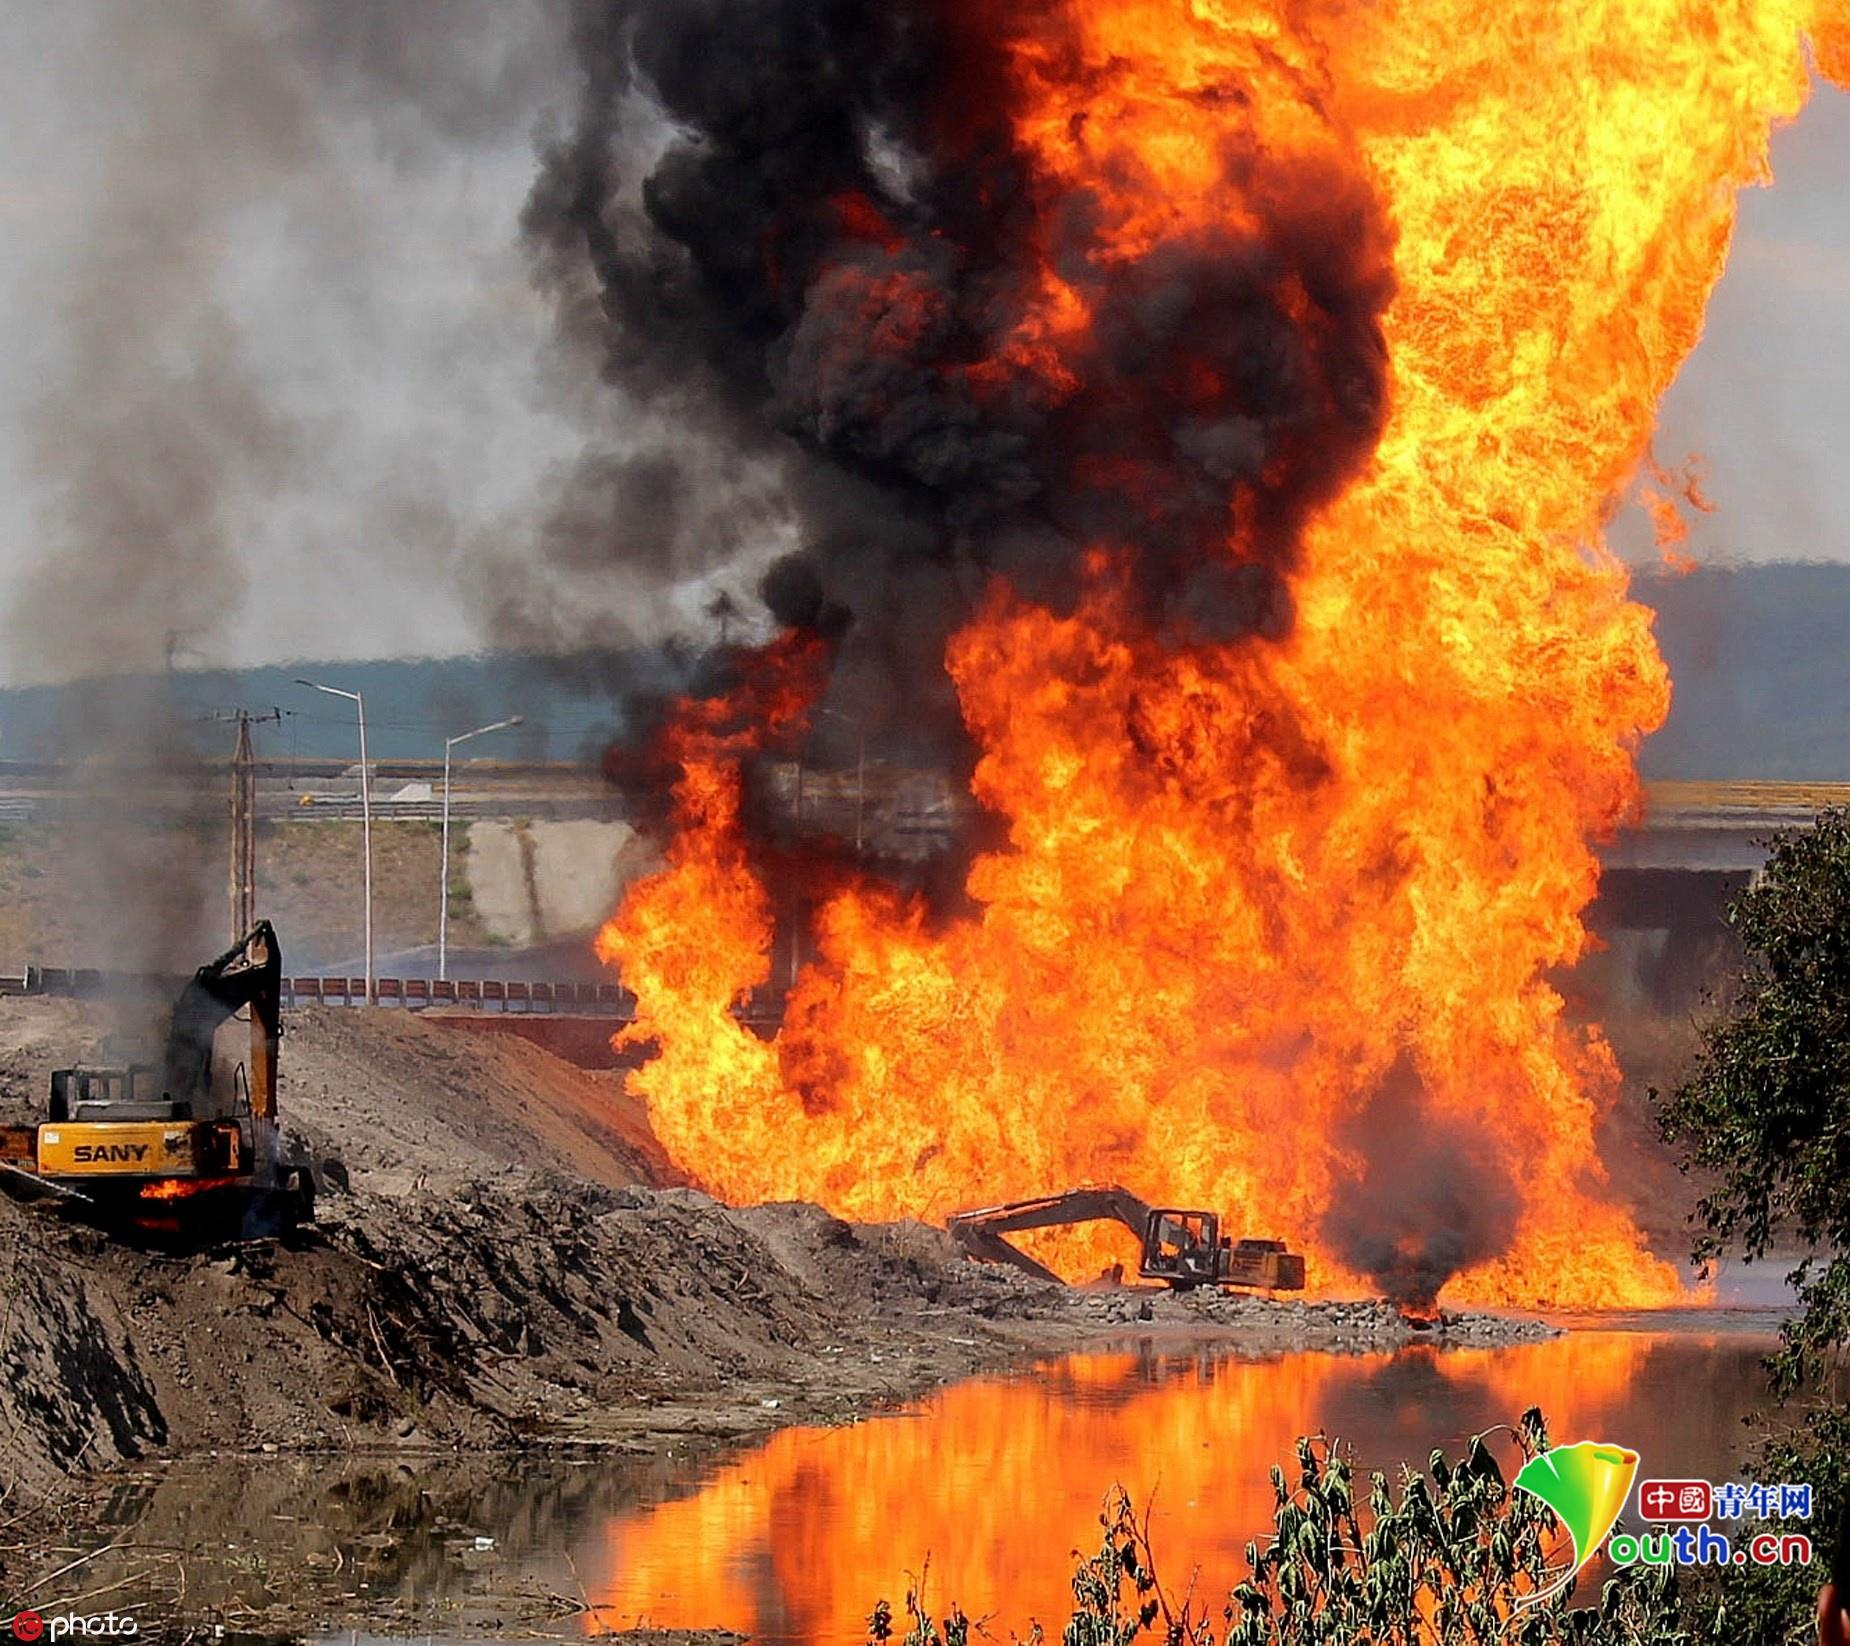fire: (637, 0, 1850, 1328)
